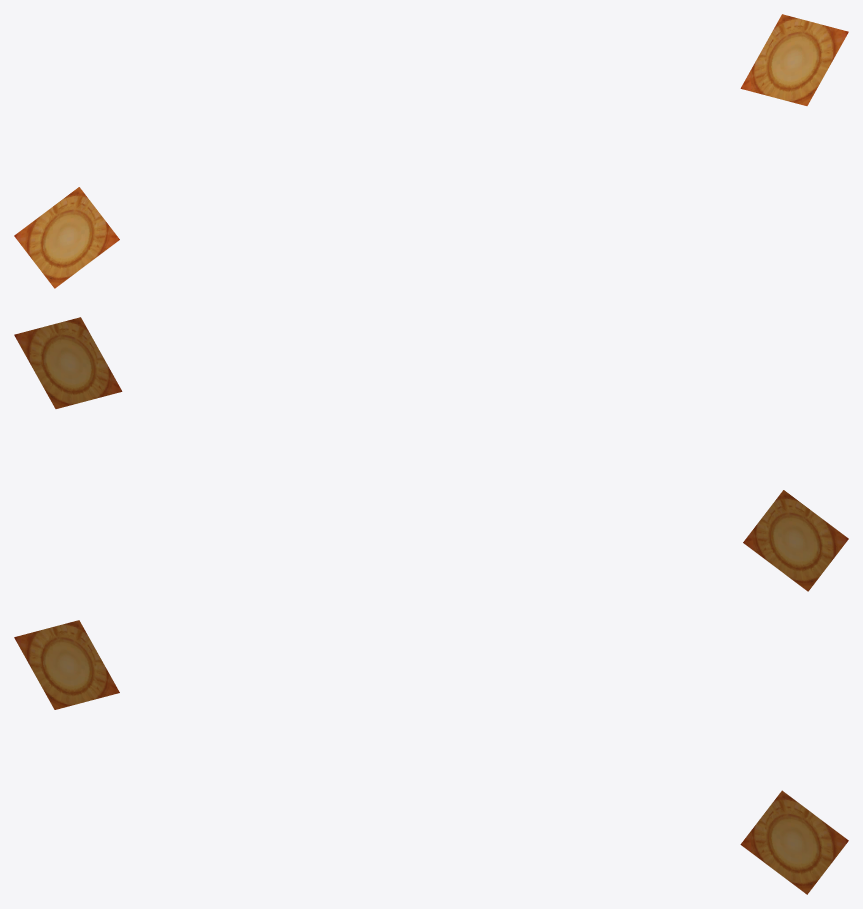
Rendered from hutt_fighter_medium_engine_s02_on_l2.fbx.
3 views of the same model, one above another, from view 1: azimuth 30°, elevation 25°; view 2: azimuth 150°, elevation 25°; view 3: azimuth 330°, elevation 25° (orthographic).
Visible parts, largest first — view 1: mesh_node; view 2: mesh_node; view 3: mesh_node.
Part boxes in pixels (x1,y1,x2,y2): mesh_node: [14, 14, 848, 288]; mesh_node: [14, 317, 848, 591]; mesh_node: [14, 620, 848, 894].
Bounding box in the file's own units: 3.87 × 0.4353 × 0.
1 material, 1 textured.
